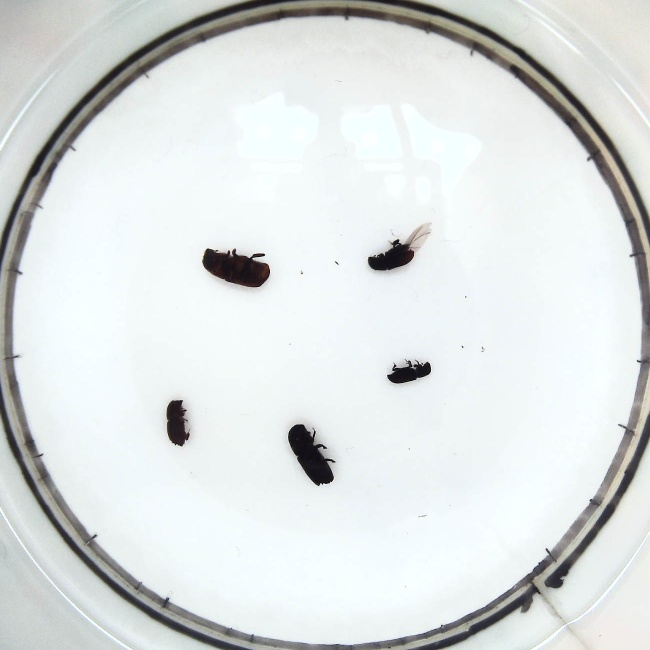armandi: (366, 221, 435, 274)
boerner: (286, 421, 340, 488)
coleoptera: (386, 357, 435, 384)
leconte: (200, 243, 273, 291)
linnaeus: (164, 396, 191, 449)
